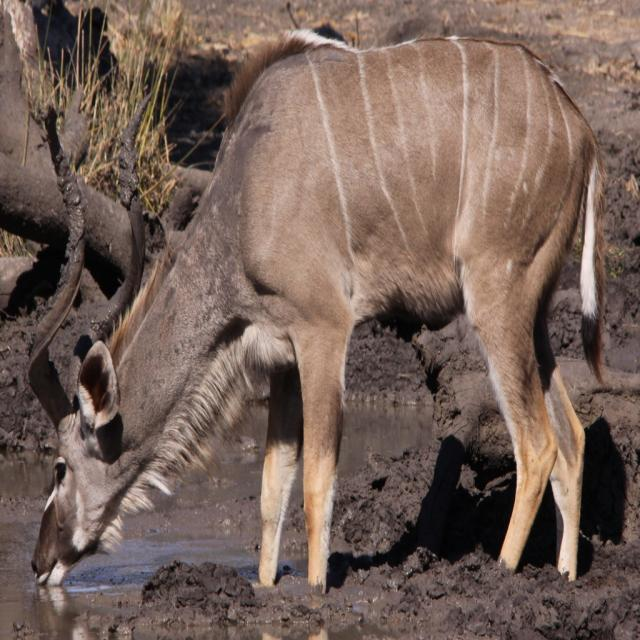Deer: (31, 27, 603, 594)
